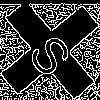S: (25, 25, 82, 81)
